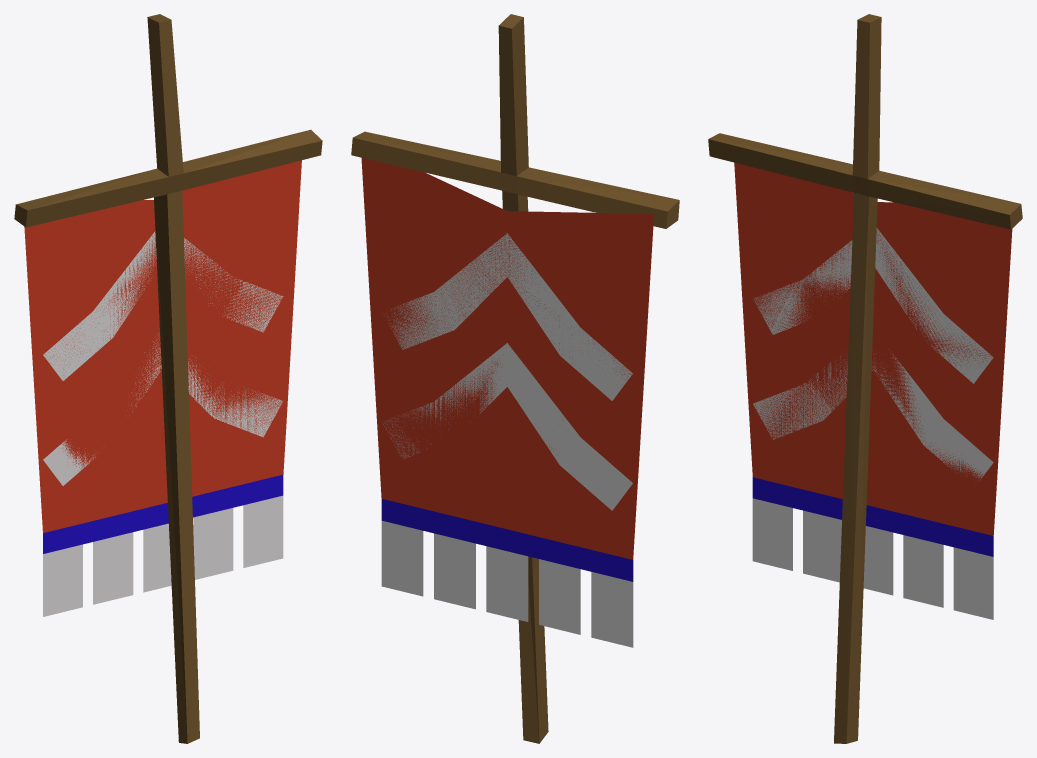
Rendered from obj_standard_11_0.obj.
3 views of the same model, side by side, from view 1: azimuth 30°, elevation 25°; view 2: azimuth 150°, elevation 25°; view 3: azimuth 330°, elevation 25° (orthographic). The views are drawn at different scales.
Bounding box in the file's own units: 0.9297 × 2.11 × 0.2031.
